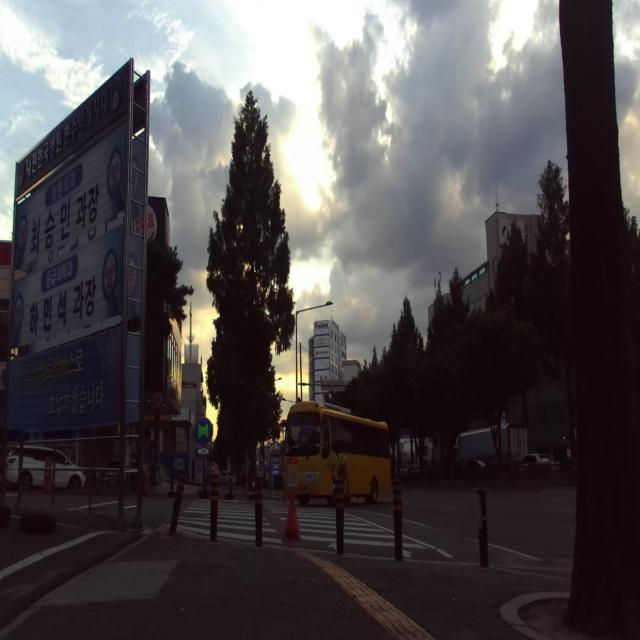횡단보도: (160, 498, 426, 558)
